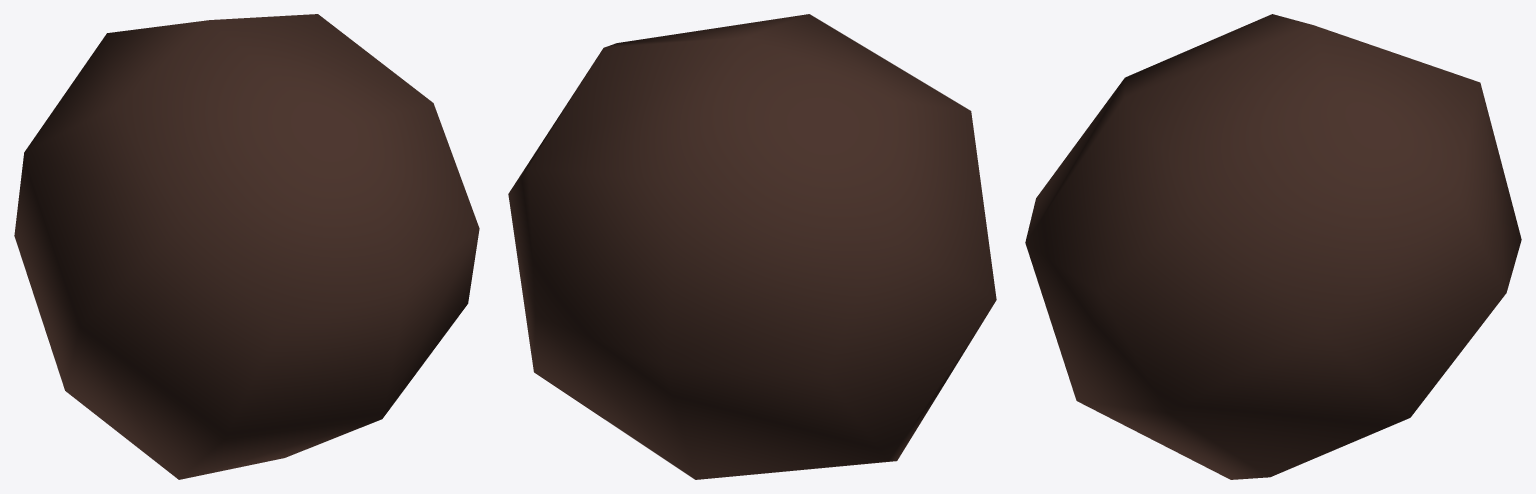
Rendered from coco.fbx.
3 views of the same model, side by side, from view 1: azimuth 30°, elevation 25°; view 2: azimuth 150°, elevation 25°; view 3: azimuth 270°, elevation 25° (orthographic). The views are drawn at different scales.
Visible parts, largest first — view 1: Palm 2.001; view 2: Palm 2.001; view 3: Palm 2.001.
Part boxes in pixels (x1,y1,x2,y2): Palm 2.001: [14, 14, 479, 479]; Palm 2.001: [508, 14, 996, 479]; Palm 2.001: [1025, 14, 1521, 479].
Bounding box in the file's own units: 0.5778 × 0.592 × 0.6101.
